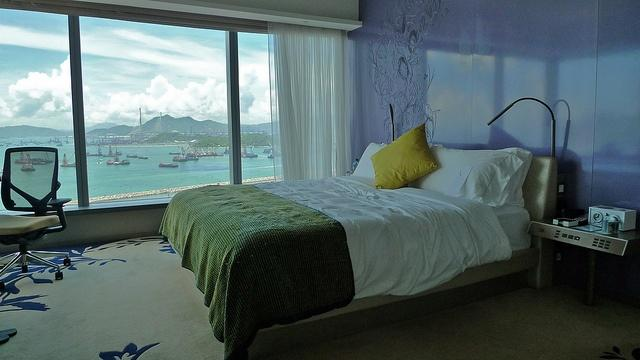Kursi: (0, 145, 71, 290)
